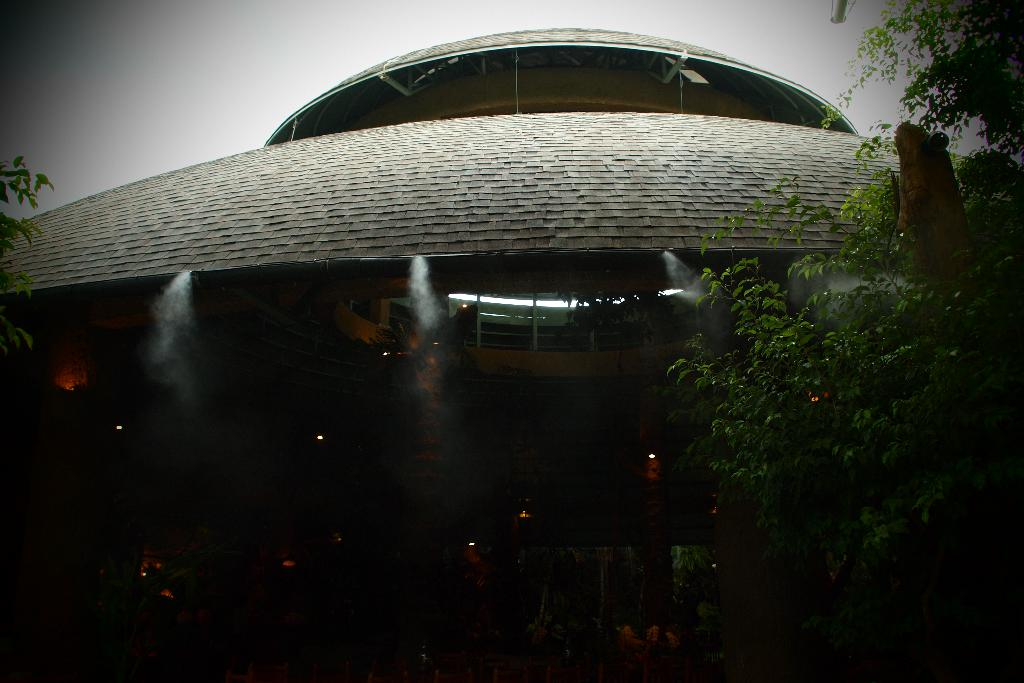Tree: (652, 6, 1008, 681)
